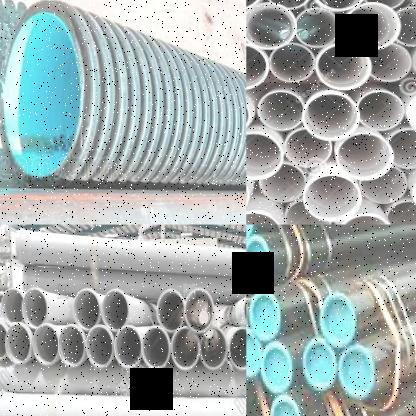pipe: (0, 0, 89, 178), (246, 225, 416, 283), (303, 173, 362, 222), (342, 2, 401, 50), (301, 93, 360, 141), (337, 133, 394, 181), (315, 43, 372, 90), (246, 2, 297, 50), (356, 89, 405, 131), (259, 161, 306, 203), (284, 129, 333, 168), (359, 165, 408, 204), (296, 7, 341, 49), (257, 91, 304, 131), (246, 131, 284, 180), (270, 43, 315, 83), (367, 43, 412, 82), (140, 325, 170, 371), (184, 289, 214, 333), (170, 326, 199, 371), (86, 325, 115, 369), (58, 323, 86, 368), (156, 289, 184, 332), (102, 289, 130, 332), (4, 322, 32, 365), (115, 325, 142, 369), (285, 199, 332, 224), (32, 323, 59, 366), (388, 128, 416, 169), (200, 327, 227, 369), (73, 289, 100, 330), (246, 42, 269, 90), (22, 288, 46, 329), (1, 289, 25, 326), (395, 6, 416, 47), (229, 326, 246, 370), (387, 200, 416, 224), (336, 214, 396, 225), (310, 0, 367, 11), (264, 0, 311, 9), (364, 0, 407, 8), (0, 319, 8, 361)
